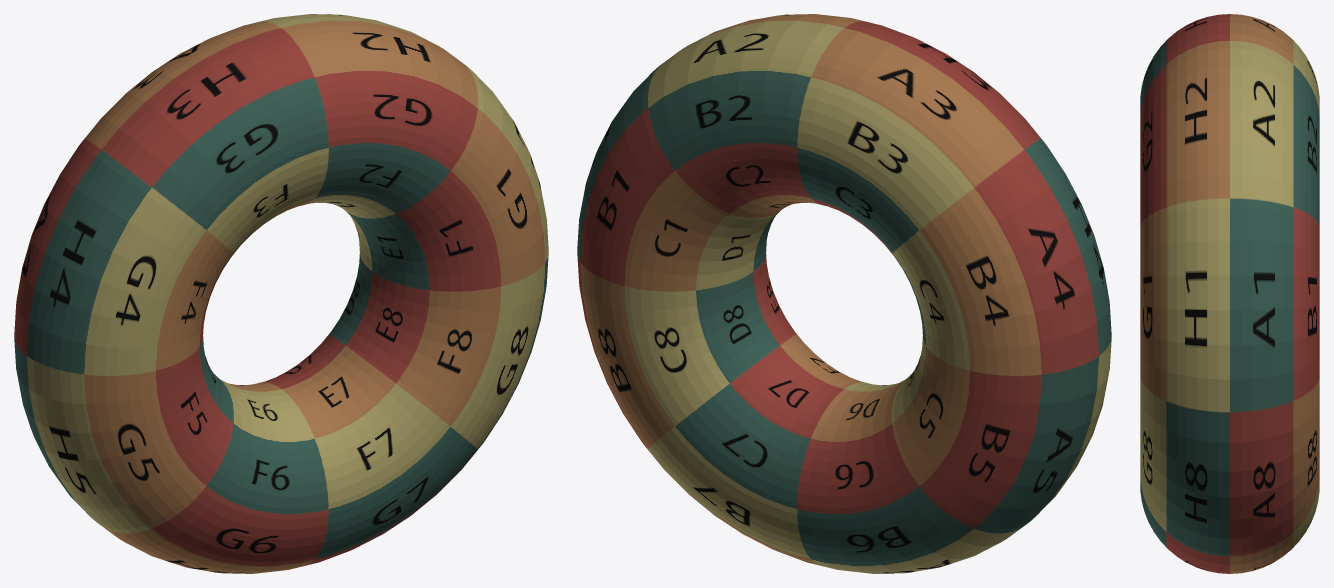
File: texture_torus_R15_r28.glb
3 renders of one model, left to right at view 1: azimuth 30°, elevation 25°; view 2: azimuth 150°, elevation 25°; view 3: azimuth 270°, elevation 25°, orthographic. The views are drawn at different scales.
Parts seen in each view (by area): view 1: world; view 2: world; view 3: world.
Part boxes in pixels (x1,y1,x2,y2): world: [14, 14, 548, 573]; world: [577, 14, 1111, 573]; world: [1140, 14, 1319, 573].
Bounding box in the file's own units: 29.47 × 29.41 × 9.45.
Materials: 1 (1 with a texture image).
